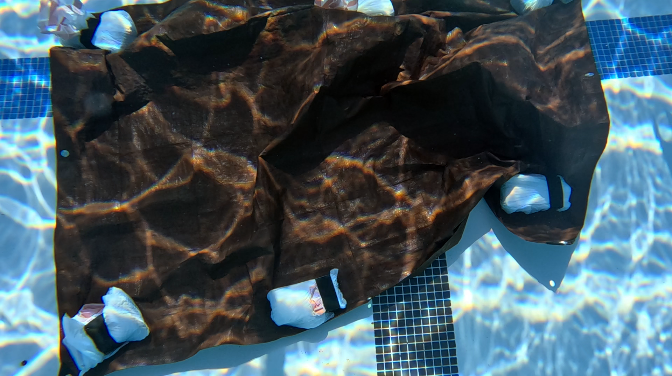sandbag: (40, 0, 610, 374)
